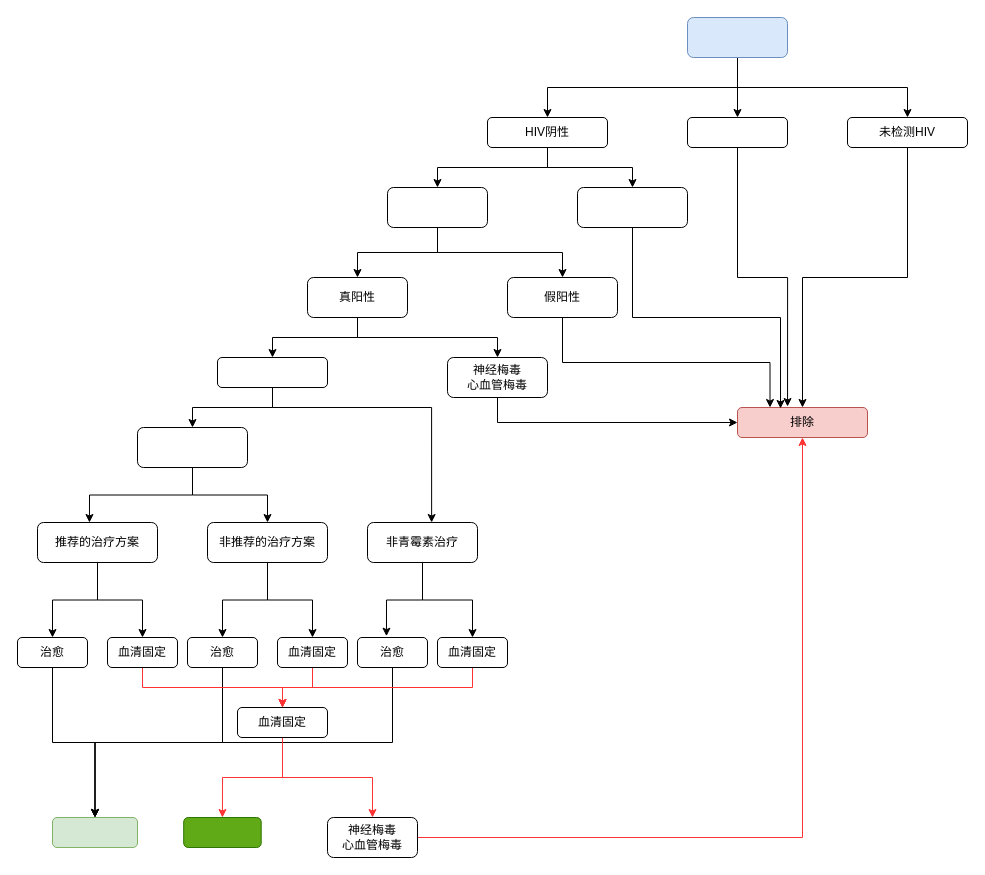
Some shapes in this 985 by 875 pixel diagram are drawn without their labels. The shapes that lost their labels are listed below. From the top down, each one's centre as x and y in pixels, then its label:
At [737,37]: "梅毒".
At [737,132]: "HIV阳性".
At [437,207]: "初诊".
At [632,207]: "复诊".
At [272,372]: "一般梅毒".
At [192,447]: "青霉素治疗".
At [95,832]: "治愈组".
At [222,832]: "血清固定组".
